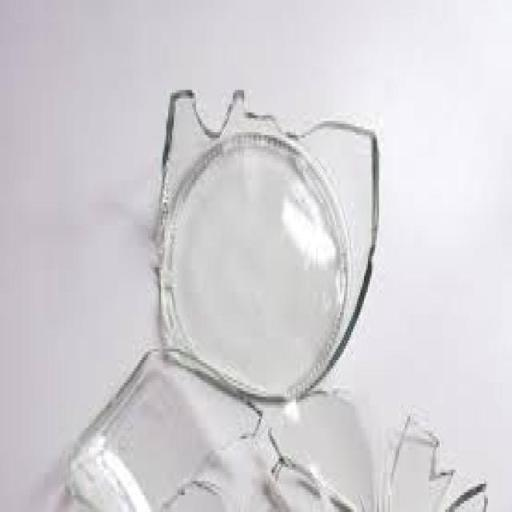glass: (130, 64, 382, 402), (46, 330, 258, 512), (256, 368, 380, 512), (379, 397, 495, 512)
